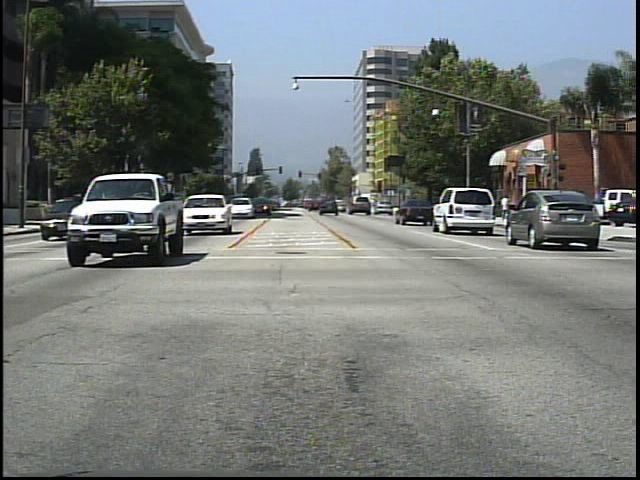person: (456, 192, 474, 227), (501, 189, 514, 224)
